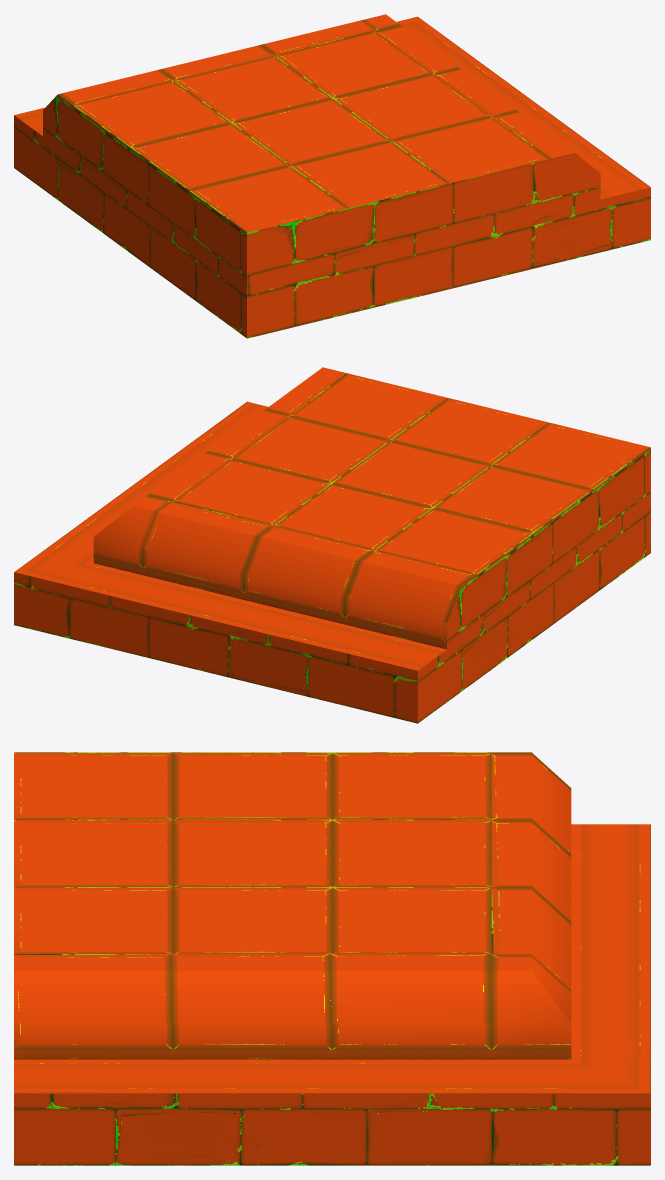
File: Corner Floor Channel  Tile.fbx
The picture shows the model from 3 angles, top to bottom: view 1: azimuth 30°, elevation 25°; view 2: azimuth 150°, elevation 25°; view 3: azimuth 270°, elevation 25°; orthographic projection. The views are drawn at different scales.
Visible parts, largest first — view 1: pCube9; view 2: pCube9; view 3: pCube9.
Boxes of the visible parts, left/top/right/bottom form: pCube9: left=14, top=14, right=650, bottom=338; pCube9: left=14, top=367, right=650, bottom=723; pCube9: left=14, top=752, right=650, bottom=1165.
Bounding box in the file's own units: 200 × 50 × 200.
